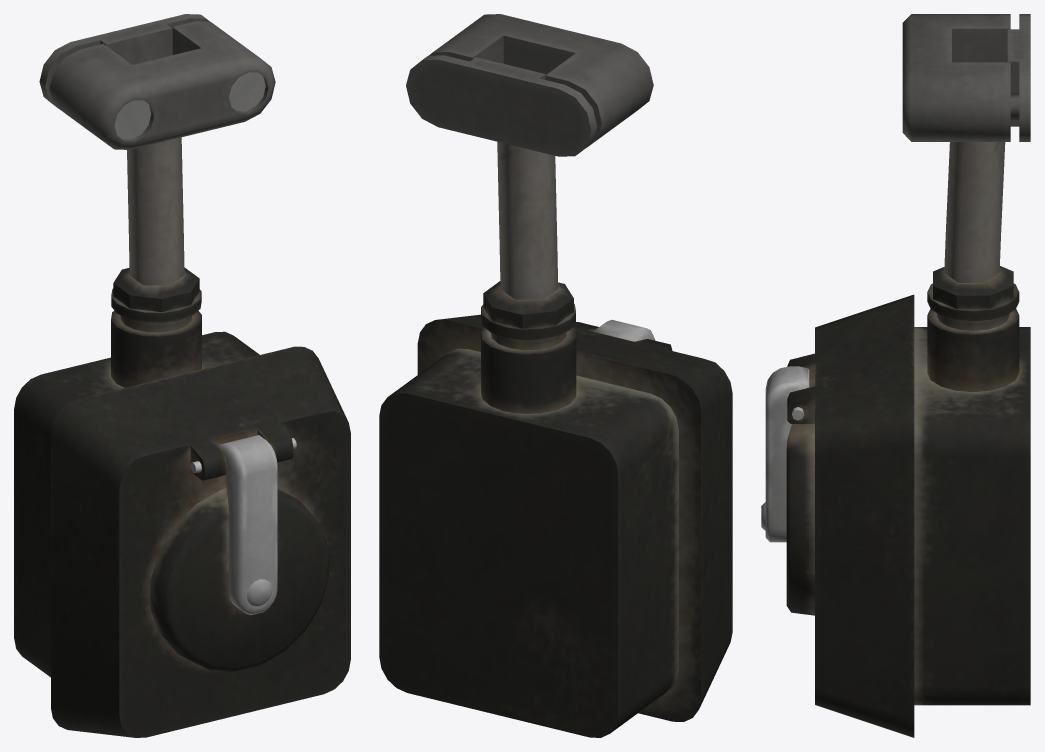
Rendered from cable_plug_covered.glb.
The picture shows the model from 3 angles, left to right: view 1: azimuth 30°, elevation 25°; view 2: azimuth 150°, elevation 25°; view 3: azimuth 270°, elevation 25°; orthographic projection. The views are drawn at different scales.
Parts seen in each view (by area): view 1: cable_plug_covered; view 2: cable_plug_covered; view 3: cable_plug_covered.
Boxes of the visible parts, left/top/right/bottom form: cable_plug_covered: left=14, top=14, right=350, bottom=737; cable_plug_covered: left=379, top=14, right=732, bottom=737; cable_plug_covered: left=761, top=14, right=1030, bottom=737.
Size of the model in its own units: 0.0635 by 0.1424 by 0.0546.
Materials: 1 (1 with a texture image).
